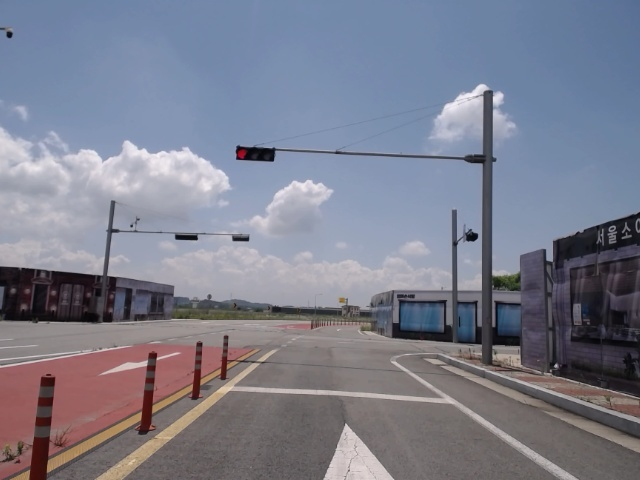red_3: (234, 145, 276, 164)
